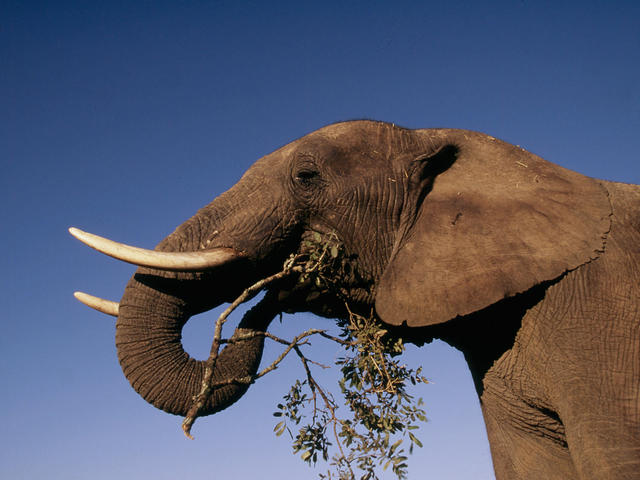elephant: (49, 113, 640, 478)
